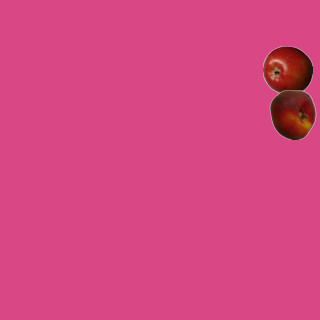Apple Braeburn: (262, 45, 312, 95)
Nectarine Flat: (267, 89, 317, 139)
